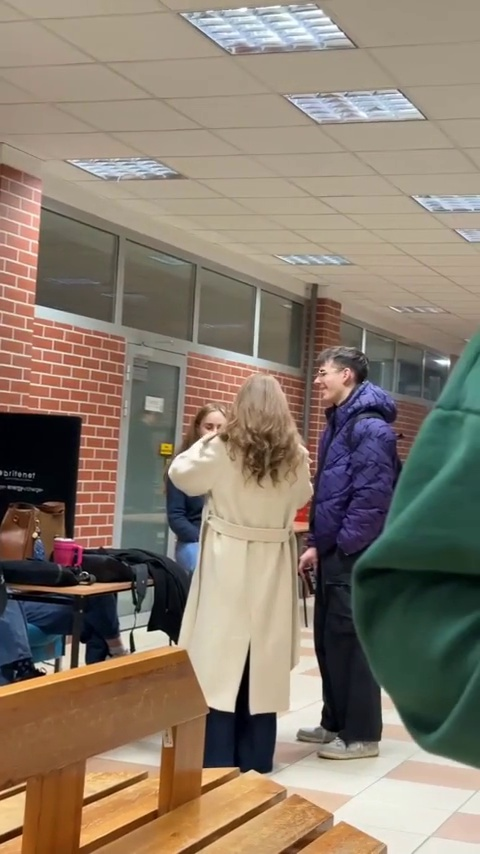no vest: (179, 371, 307, 728), (308, 345, 408, 731)
